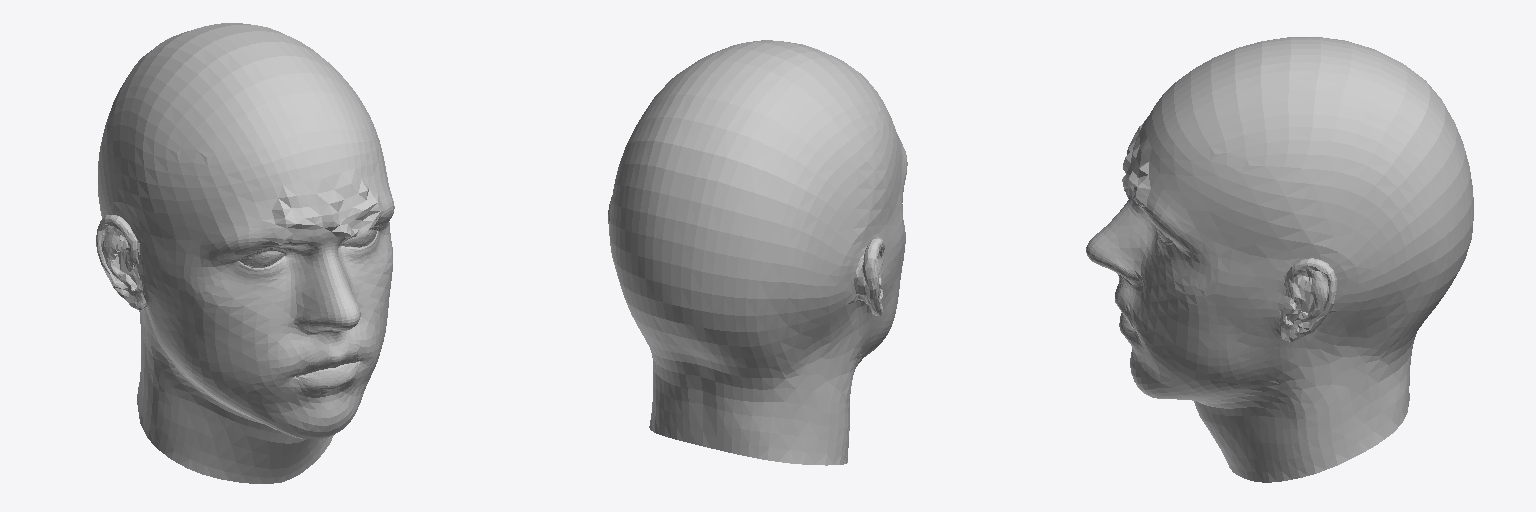
Rendered from MaleFaced14.obj.
The picture shows the model from 3 angles: view 1: azimuth 30°, elevation 25°; view 2: azimuth 150°, elevation 25°; view 3: azimuth 270°, elevation 25°; orthographic projection.
Parts seen in each view (by area): view 1: HeadHires; view 2: HeadHires; view 3: HeadHires.
Boxes of the visible parts, x1=… form: HeadHires: x1=96, y1=23, x2=394, y2=483; HeadHires: x1=608, y1=40, x2=907, y2=465; HeadHires: x1=1086, y1=37, x2=1473, y2=482.
Bounding box in the file's own units: 191 × 283 × 240.